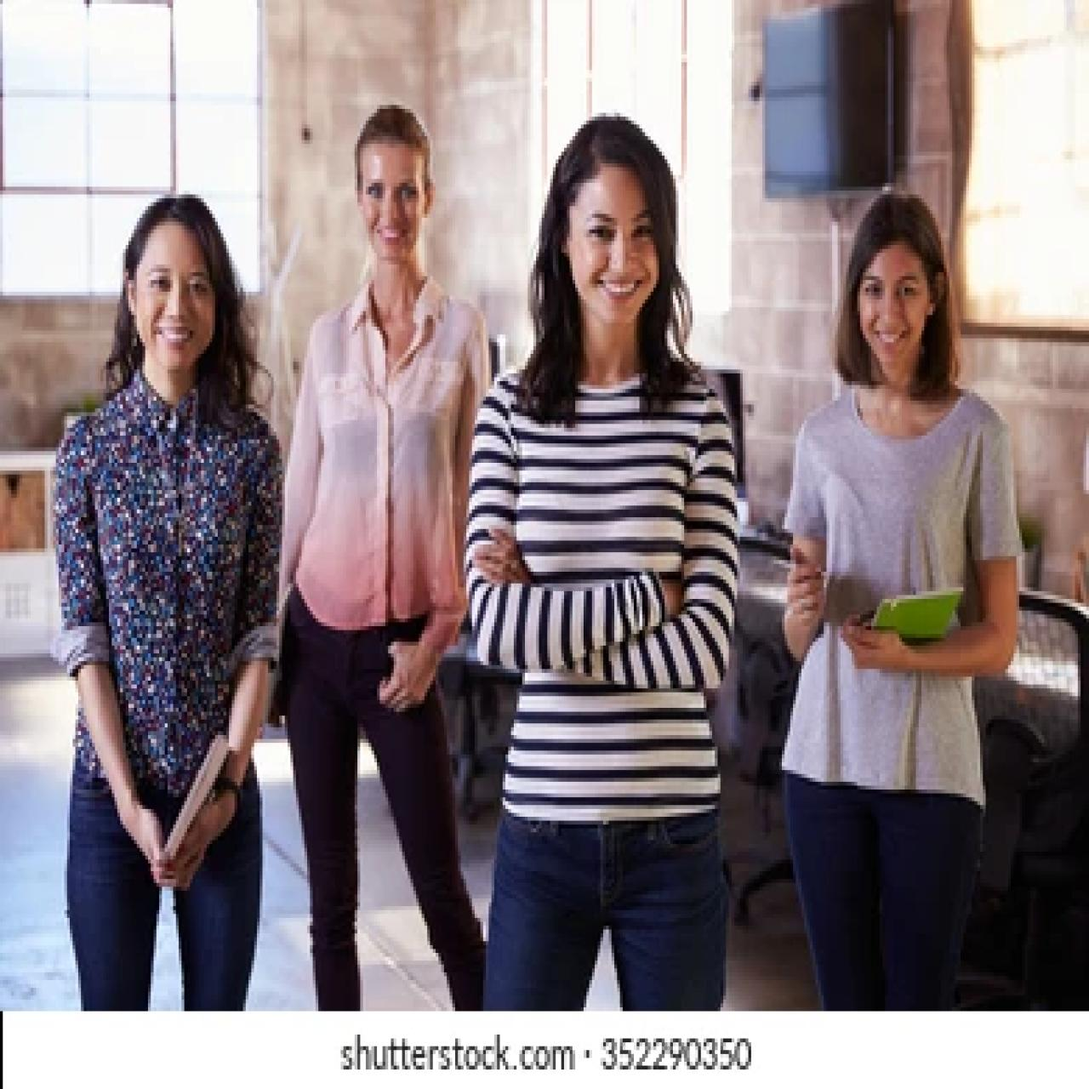NO_Safety_Vest: (501, 371, 713, 798), (77, 410, 253, 796), (810, 397, 979, 752), (311, 279, 477, 636)
Person: (466, 88, 742, 1011), (774, 177, 1023, 1004), (43, 191, 294, 1010), (285, 93, 505, 1007)
